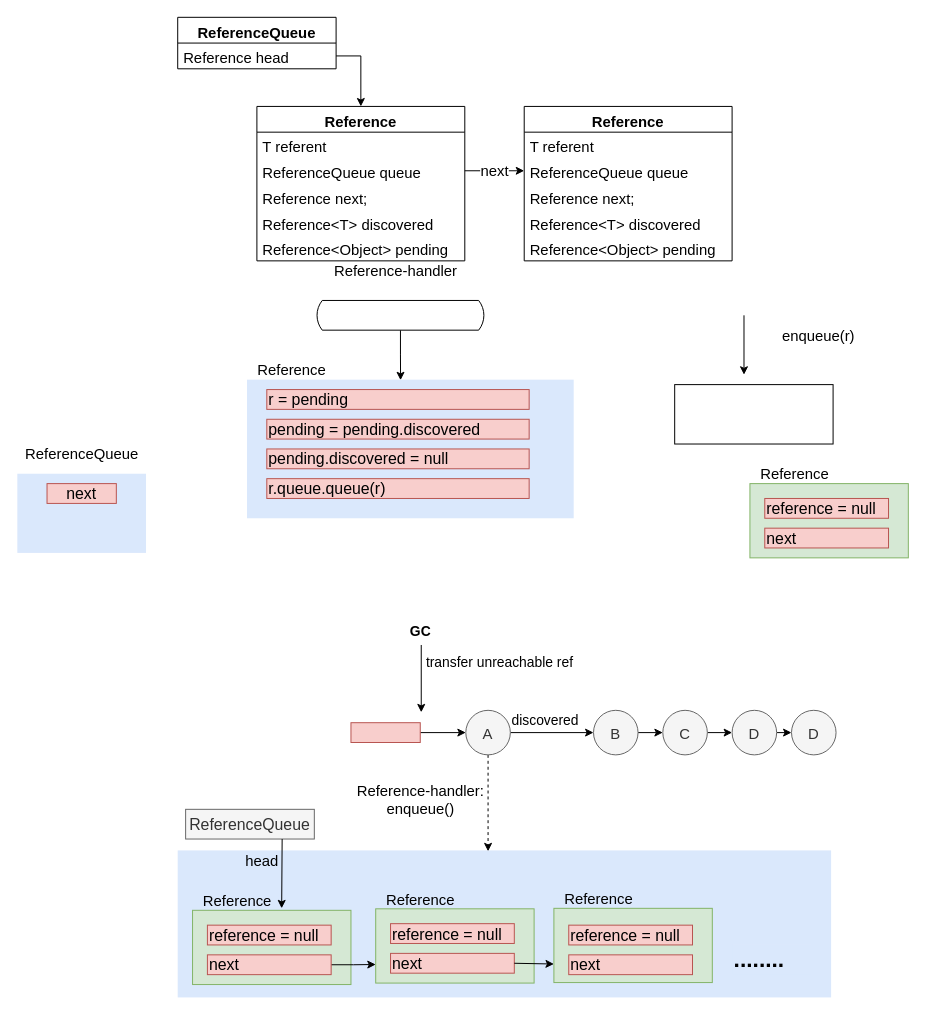
Some shapes in this 926 by 1015 pixel diagram are drawn without their labels. The centre of each missing label's shape, as x and y in pixels:
"pending" belongs at [385,732].
"r.queue = ENQUEUED; r.next = r; head = r;" belongs at [753,414].
"tryHandlePending" belongs at [400,314].
